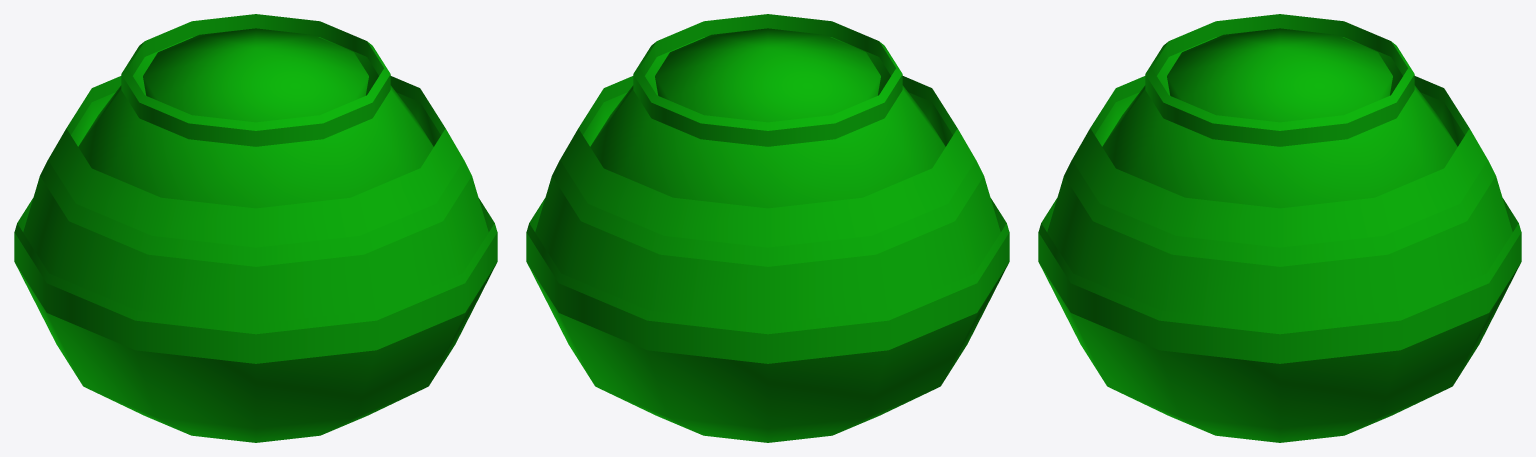
The model's file is Produce_Cabbage.fbx.
The picture shows the model from 3 angles, left to right: view 1: azimuth 30°, elevation 25°; view 2: azimuth 150°, elevation 25°; view 3: azimuth 270°, elevation 25°; orthographic projection.
Visible parts, largest first — view 1: Sphere002; view 2: Sphere002; view 3: Sphere002.
Boxes of the visible parts, box(x1,y1,x2,y2) form: Sphere002: box(14, 14, 497, 442); Sphere002: box(526, 14, 1009, 442); Sphere002: box(1038, 14, 1521, 442).
Bounding box in the file's own units: 17.93 × 15.13 × 17.93.
